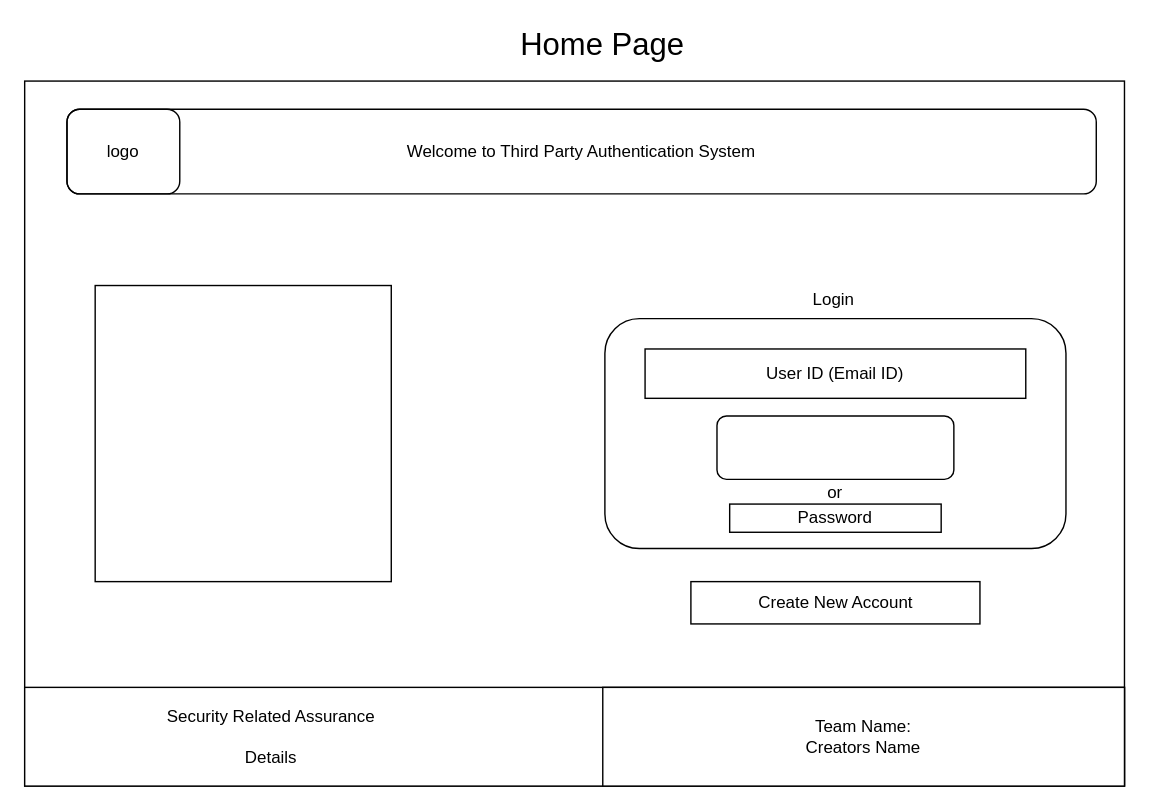
Image size: 1149x811. Some labels were removed from this diagram. Here are the shapes that lost their labels. From the top down, the centre of each, then its label:
the point at 242,433: Photo / Design
the point at 835,447: Face Recognition Button
